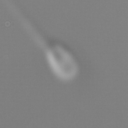normal: (2, 1, 50, 50)
